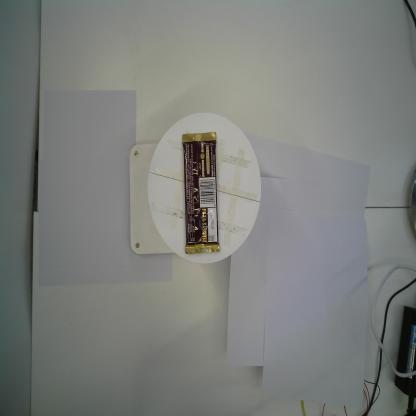Chocolate: (180, 129, 221, 257)
